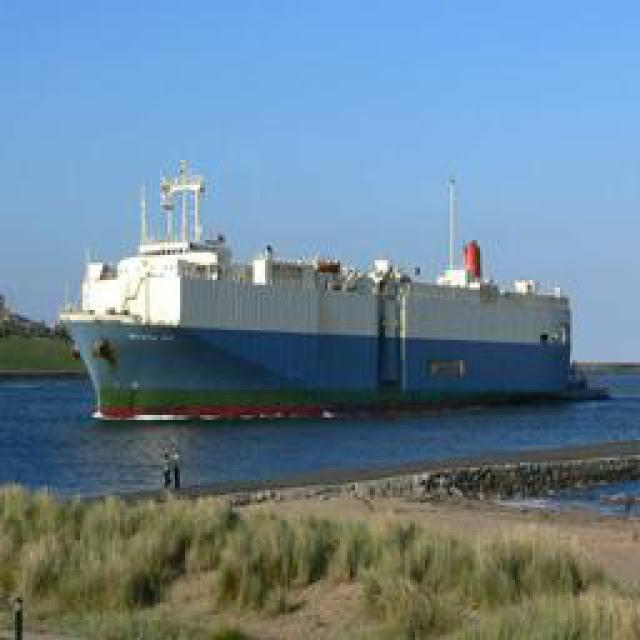Ship: (56, 159, 606, 419)
